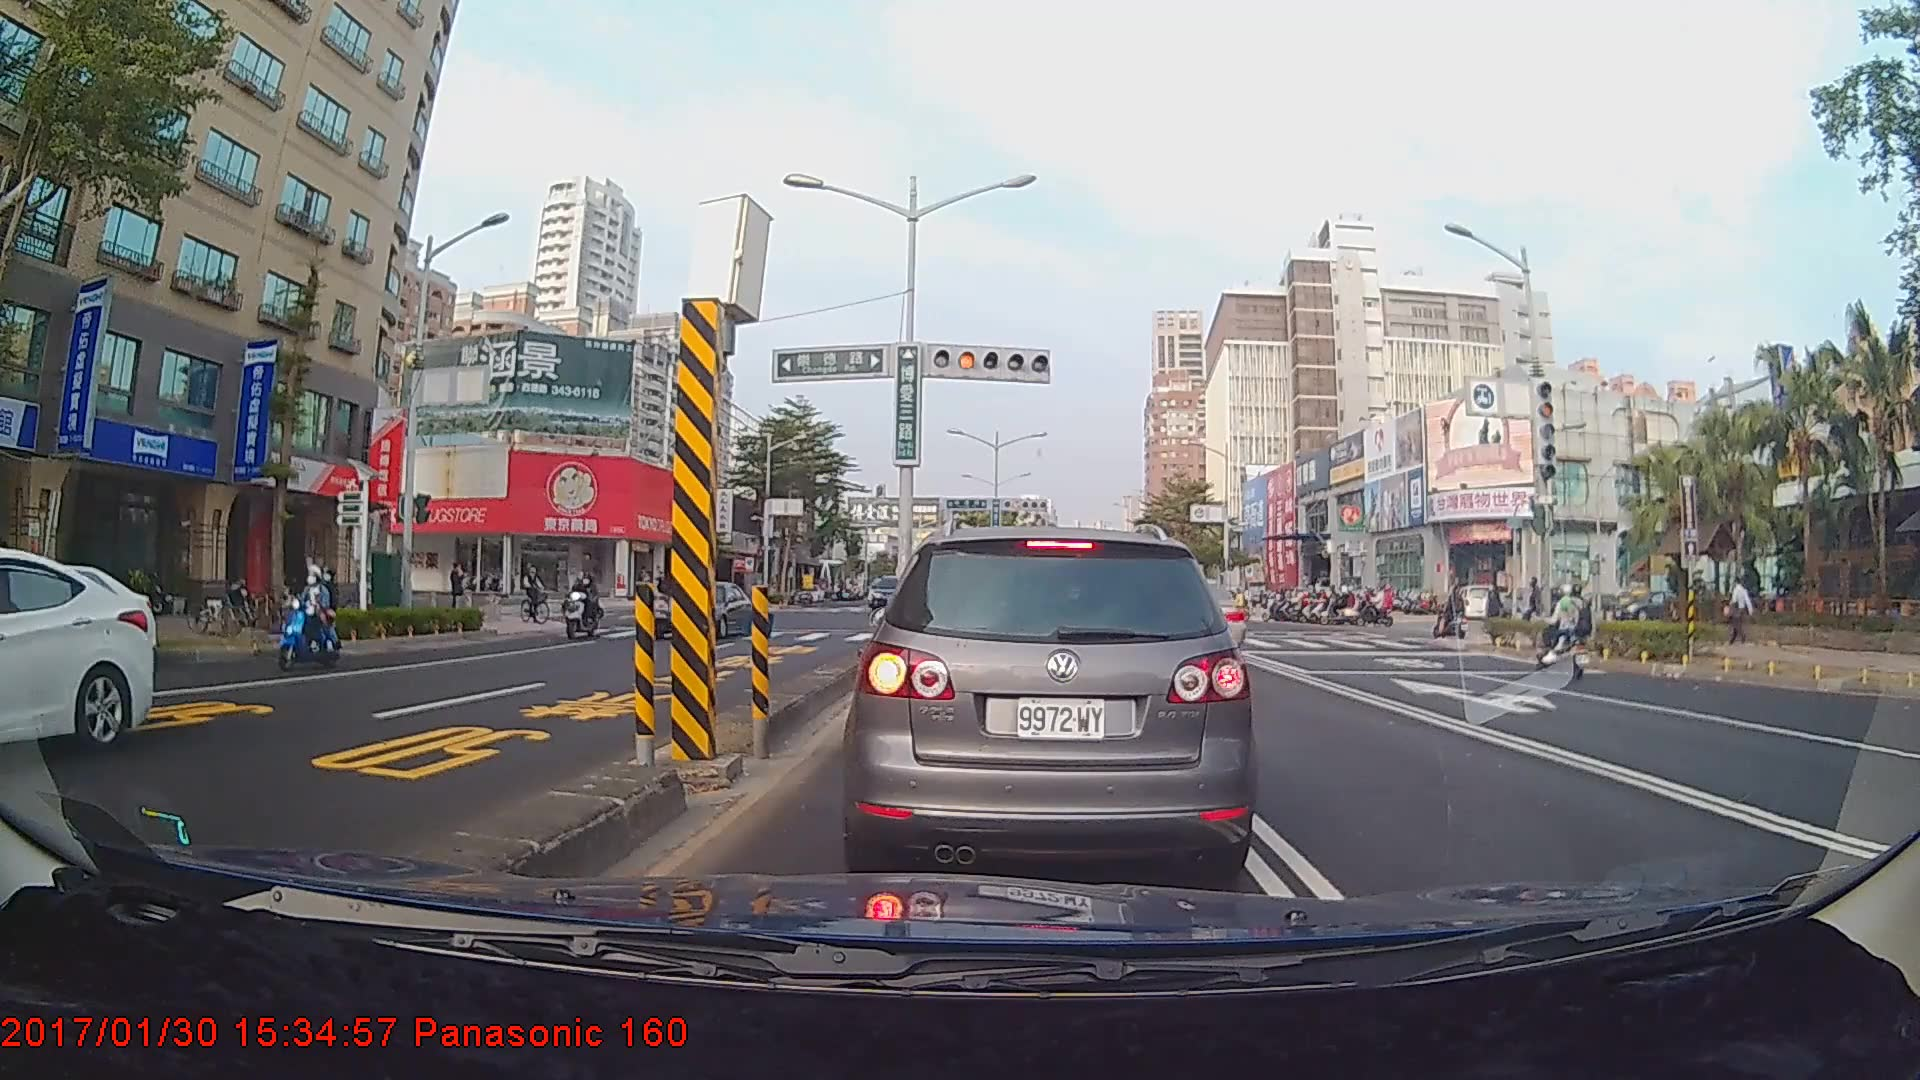pedestrian: (1726, 576, 1754, 645), (447, 563, 467, 620)
rider: (277, 567, 351, 671), (1536, 580, 1606, 679), (568, 565, 616, 643), (562, 566, 609, 619), (1435, 584, 1473, 640), (522, 566, 551, 627)
vehicle: (856, 504, 1252, 874), (0, 547, 154, 755), (651, 580, 755, 640), (869, 575, 905, 608)
